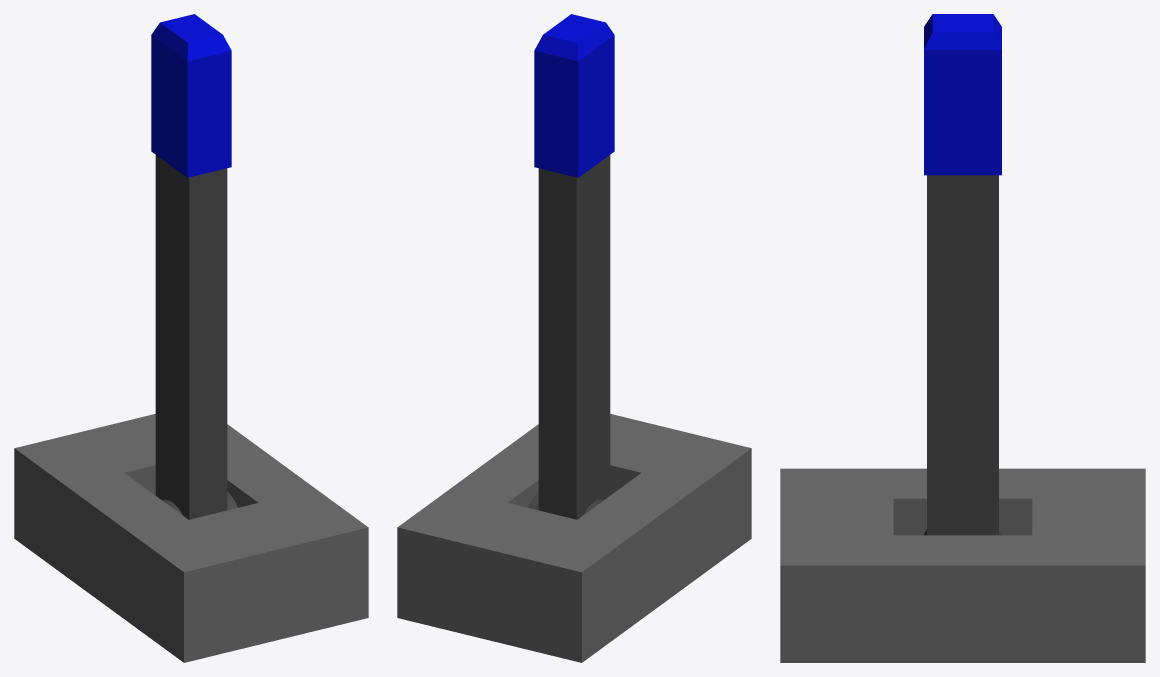
Rendered from BlueLeverWB.glb.
3 views of the same model, side by side, from view 1: azimuth 30°, elevation 25°; view 2: azimuth 150°, elevation 25°; view 3: azimuth 270°, elevation 25° (orthographic). The views are drawn at different scales.
Parts seen in each view (by area): view 1: Base, Handle, Top; view 2: Base, Handle, Top; view 3: Base, Handle, Top.
Boxes of the visible parts, x1,y1,x2,y2 form: Base: (14,414,368,662); Handle: (155,155,237,519); Top: (151,14,231,177); Base: (397,414,751,662); Handle: (528,155,610,519); Top: (534,14,614,177); Base: (780,468,1145,662); Handle: (924,175,1001,535); Top: (924,14,1001,175).
Size of the model in its own units: 0.38 by 1.08 by 0.6054.
